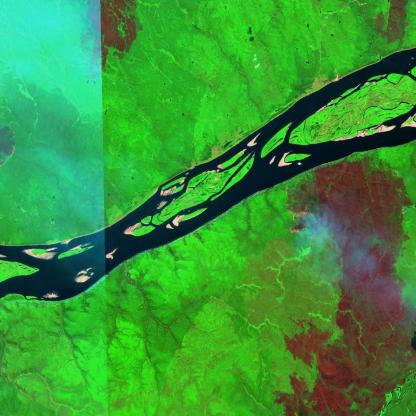fire: (283, 179, 311, 240), (0, 124, 24, 176)
